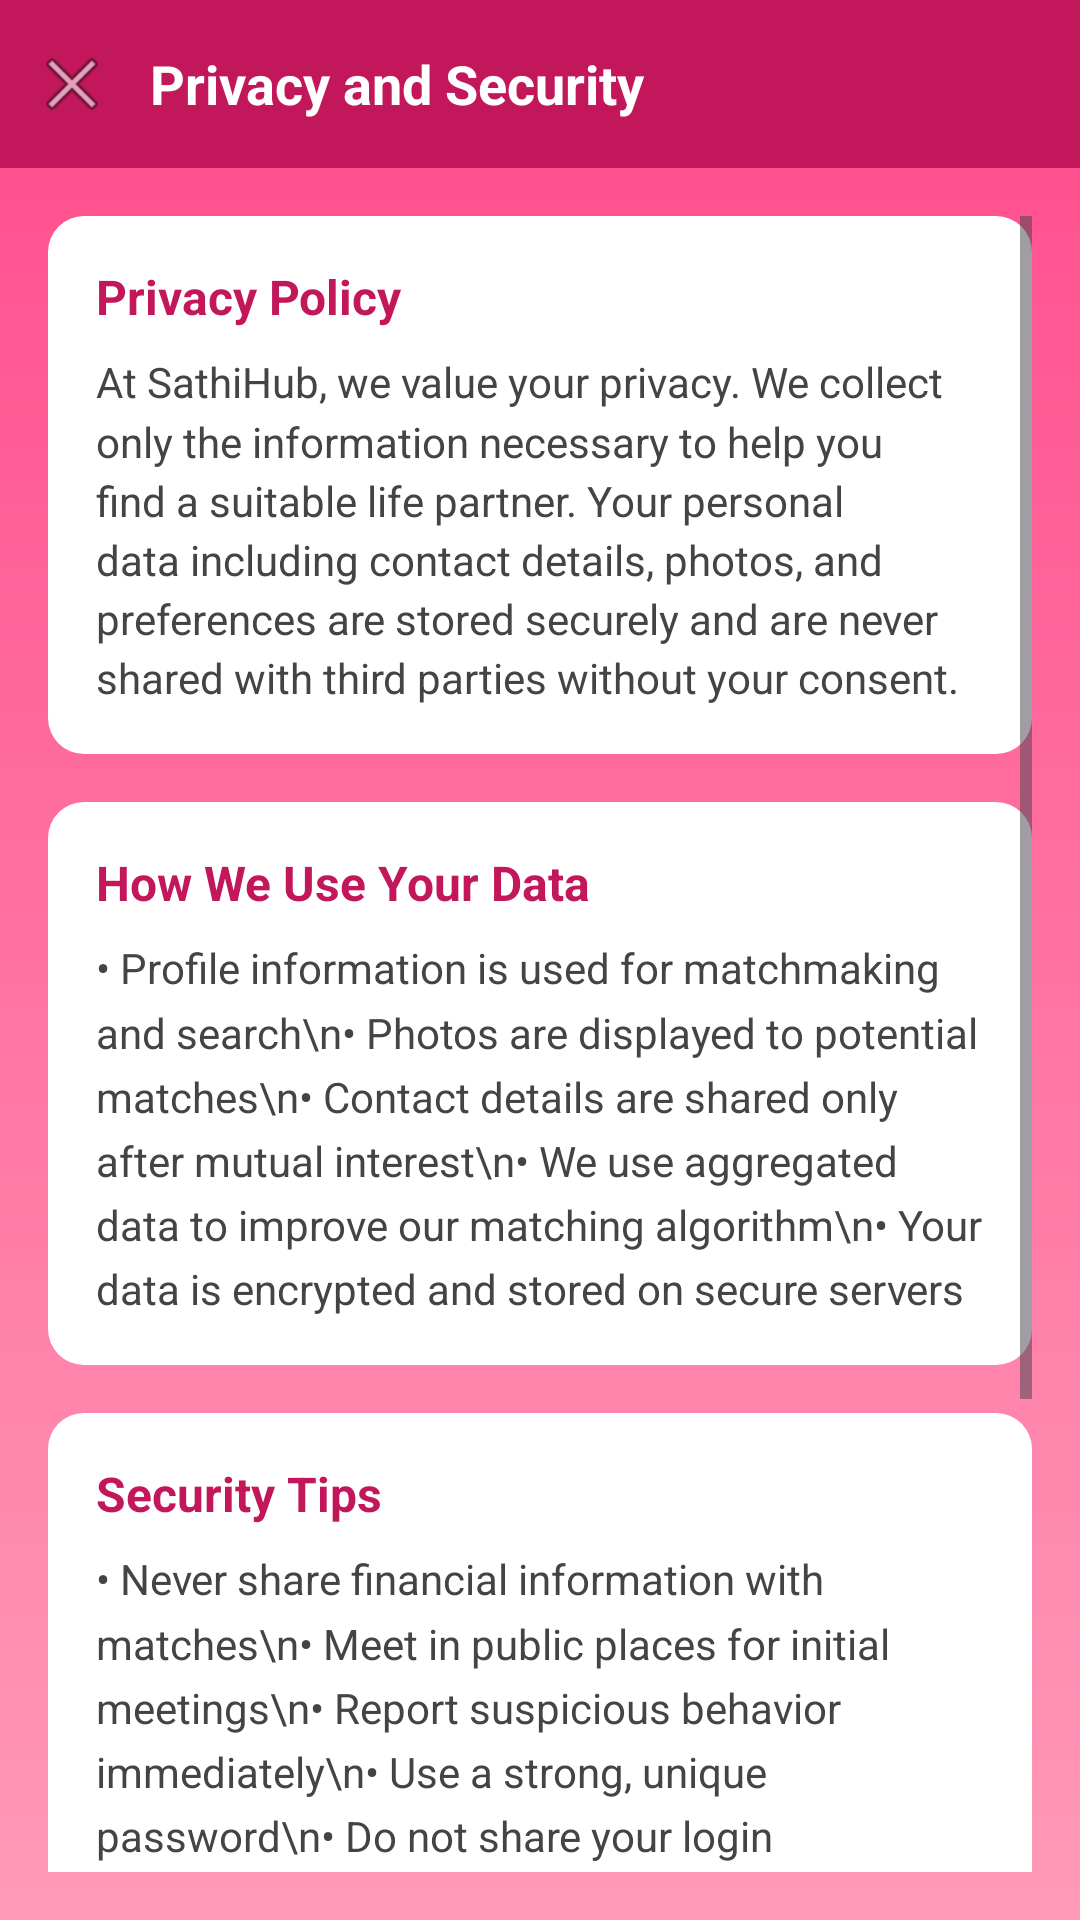

Named icons in this screenshot (1080×1920) and their centers, (x=x, y=y):
close clear cancel: (x=72, y=84)
